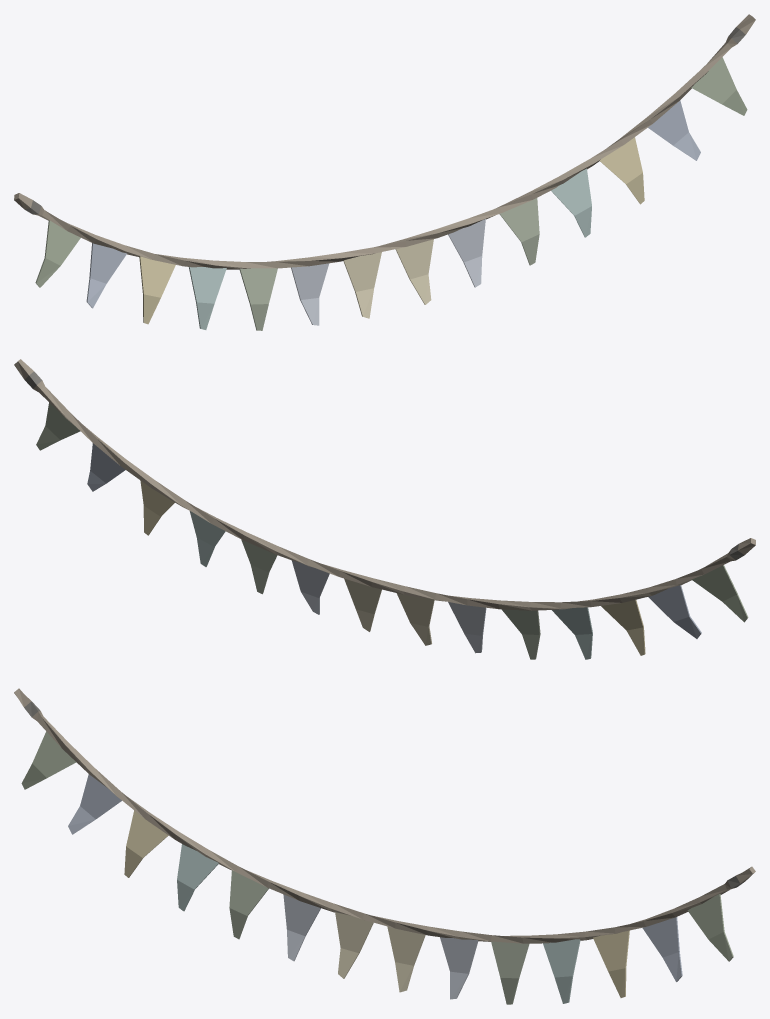
The model's file is bunting.glb.
The picture shows the model from 3 angles, top to bottom: view 1: azimuth 30°, elevation 25°; view 2: azimuth 150°, elevation 25°; view 3: azimuth 330°, elevation 25°; orthographic projection.
Visible parts, largest first — view 1: bunting; view 2: bunting; view 3: bunting.
Part boxes in pixels (x1,y1,x2,y2): bunting: (14, 14, 755, 330); bunting: (14, 359, 755, 659); bunting: (14, 688, 755, 1004).
Size of the model in its own units: 3.98 by 1.02 by 0.1484.
